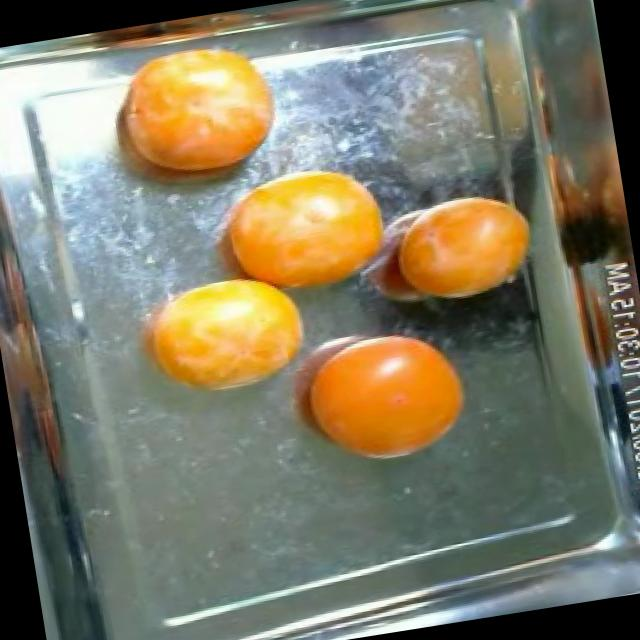Fruit: (78, 31, 303, 211), (108, 250, 336, 419), (193, 152, 413, 320), (277, 317, 487, 483), (372, 175, 554, 325)
